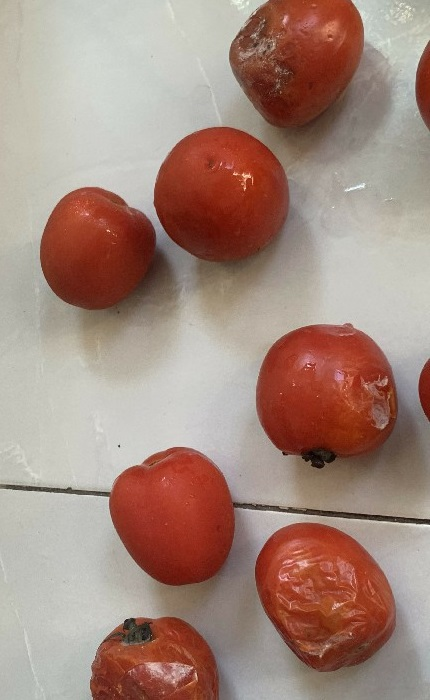NG: (247, 318, 407, 468), (252, 517, 402, 675), (227, 2, 386, 134), (86, 609, 232, 700)
OK: (100, 439, 239, 587), (154, 120, 285, 265), (35, 180, 154, 317)
